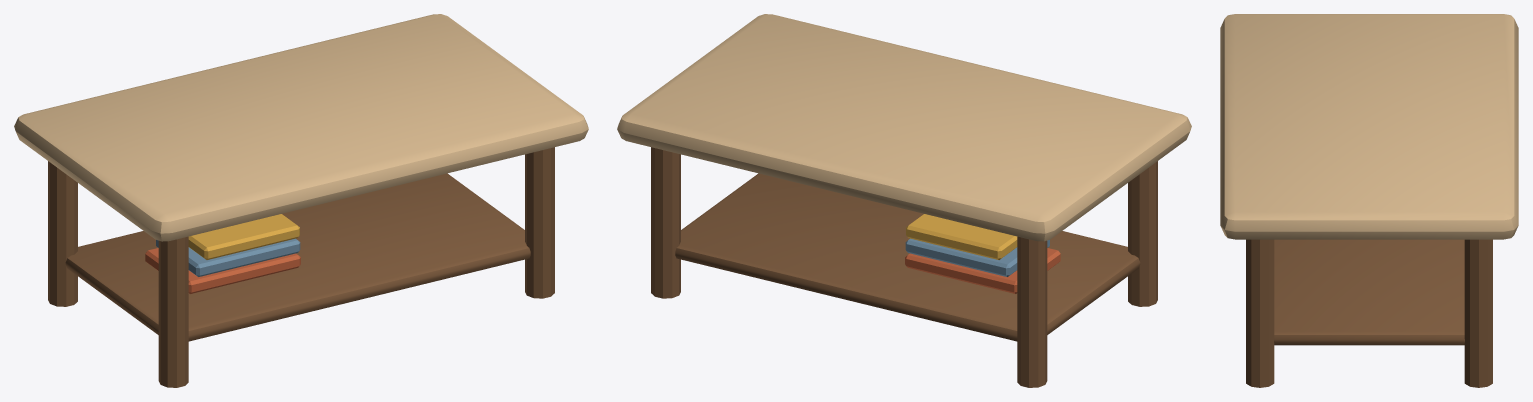
File: coffee_table.glb
The picture shows the model from 3 angles, left to right: view 1: azimuth 30°, elevation 25°; view 2: azimuth 150°, elevation 25°; view 3: azimuth 270°, elevation 25°; orthographic projection.
Parts seen in each view (by area): view 1: FURN-coffee_table; view 2: FURN-coffee_table; view 3: FURN-coffee_table.
Part boxes in pixels (box(x1,y1,x2,y2)): FURN-coffee_table: box(14, 14, 588, 387); FURN-coffee_table: box(617, 14, 1191, 387); FURN-coffee_table: box(1220, 14, 1518, 387).
Size of the model in its own units: 1 by 0.4 by 0.6.
